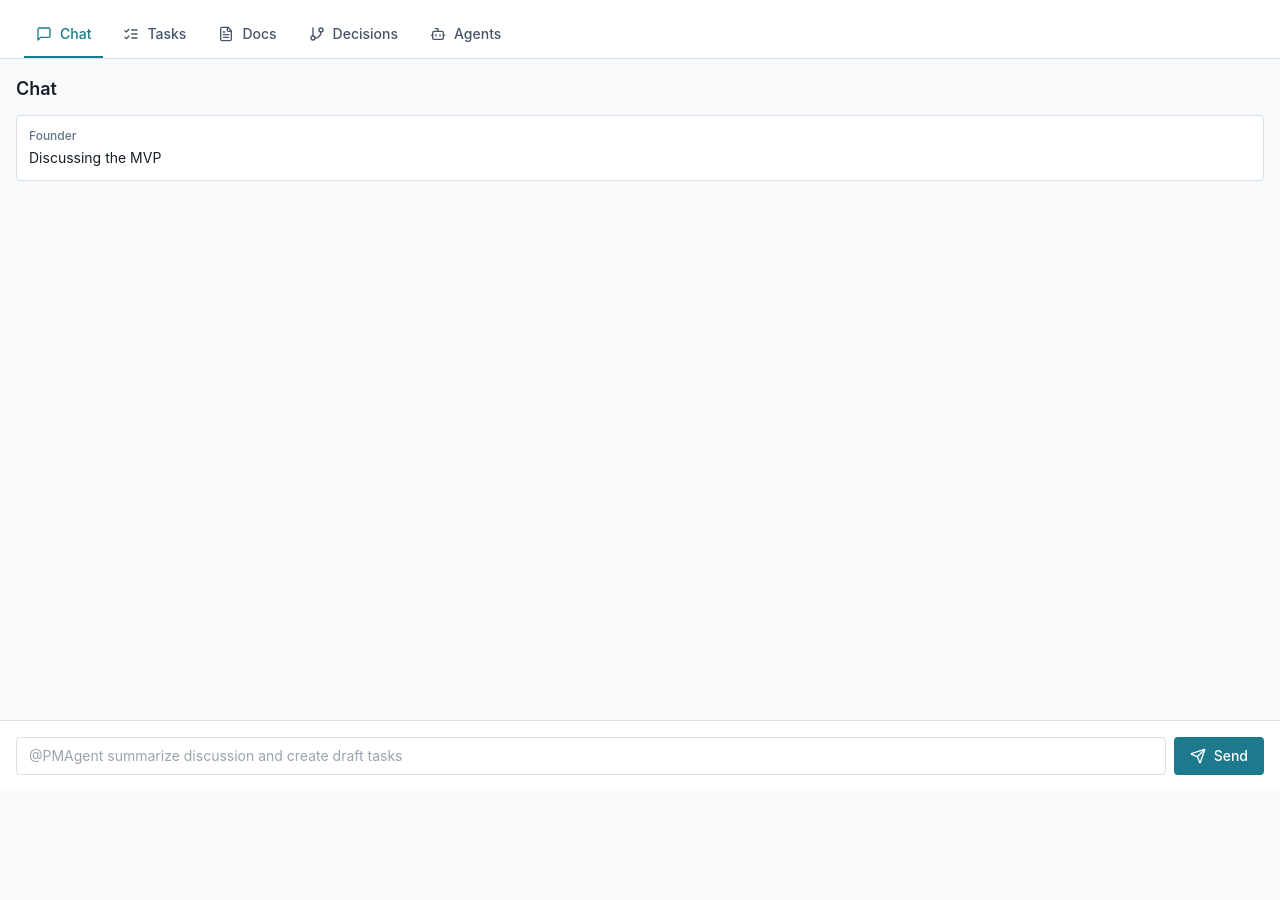
Test case: RoomTabs › renders English labels when provided
Expected: the heading "Chat" is shown, [16,78,57,99]
Click the button "Tasks": (155, 35) [111,12,198,58]
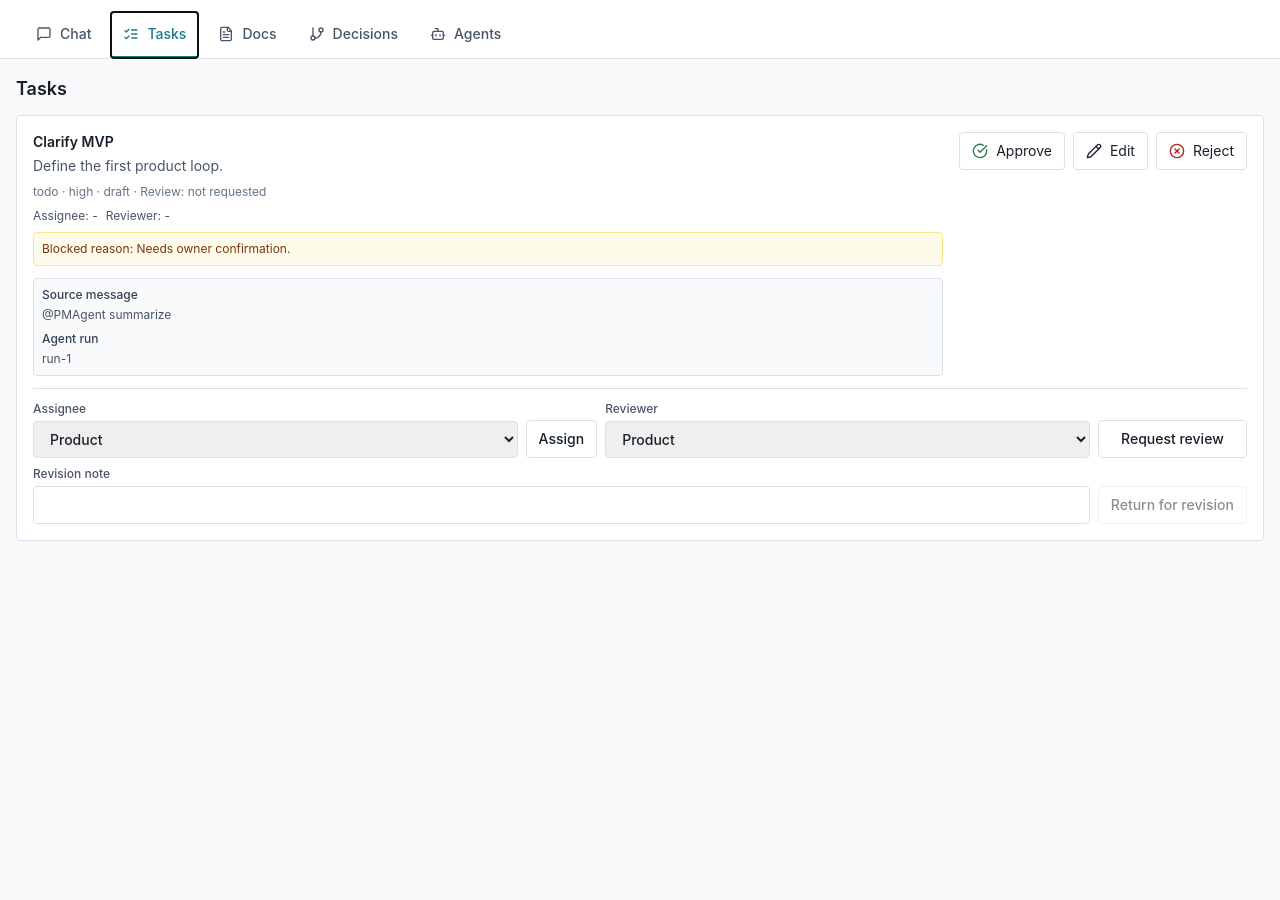
Now the heading "Tasks" is shown, box [16,78,67,99]
Now the button "Approve" is shown, box [959,132,1065,170]
